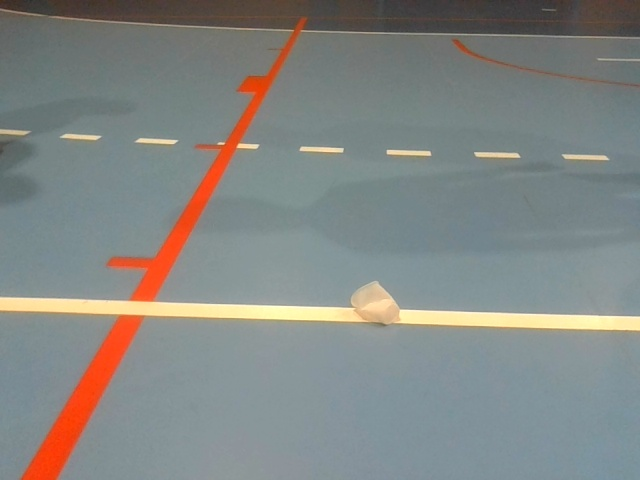plasticcup: (351, 280, 401, 325)
